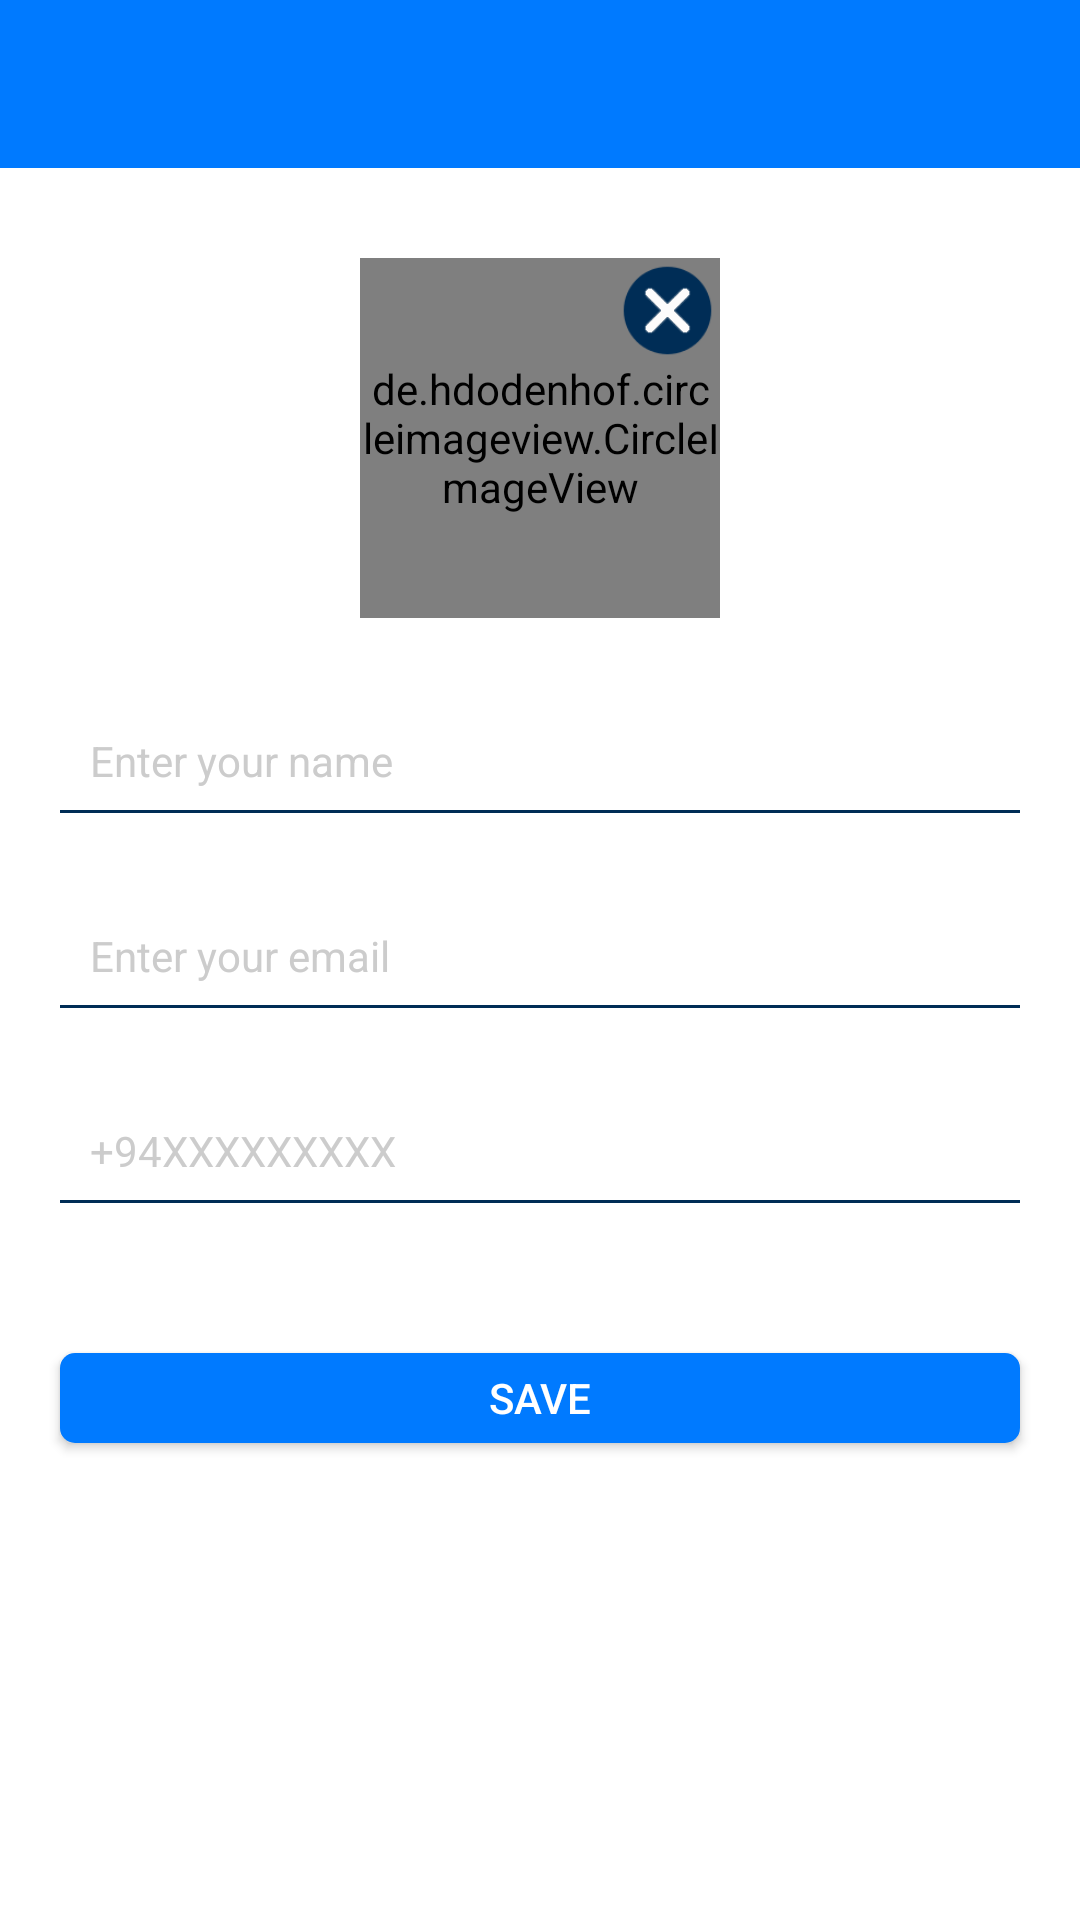

Named icons in this screenshot (1080w x 1920h) and their bounding boxes, region(x1, y1, x2, y2):
cancel: region(623, 266, 712, 355)
